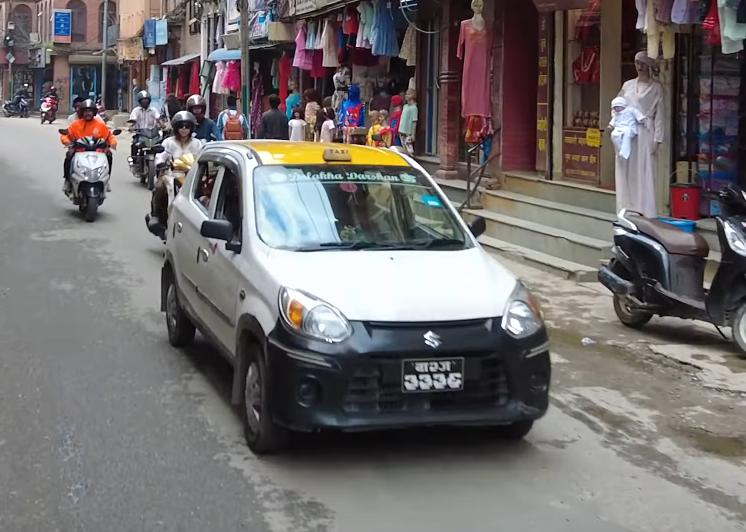scooter: (590, 179, 746, 355), (52, 121, 127, 228), (145, 145, 199, 243), (37, 92, 60, 124)
taxi: (150, 124, 561, 474)
